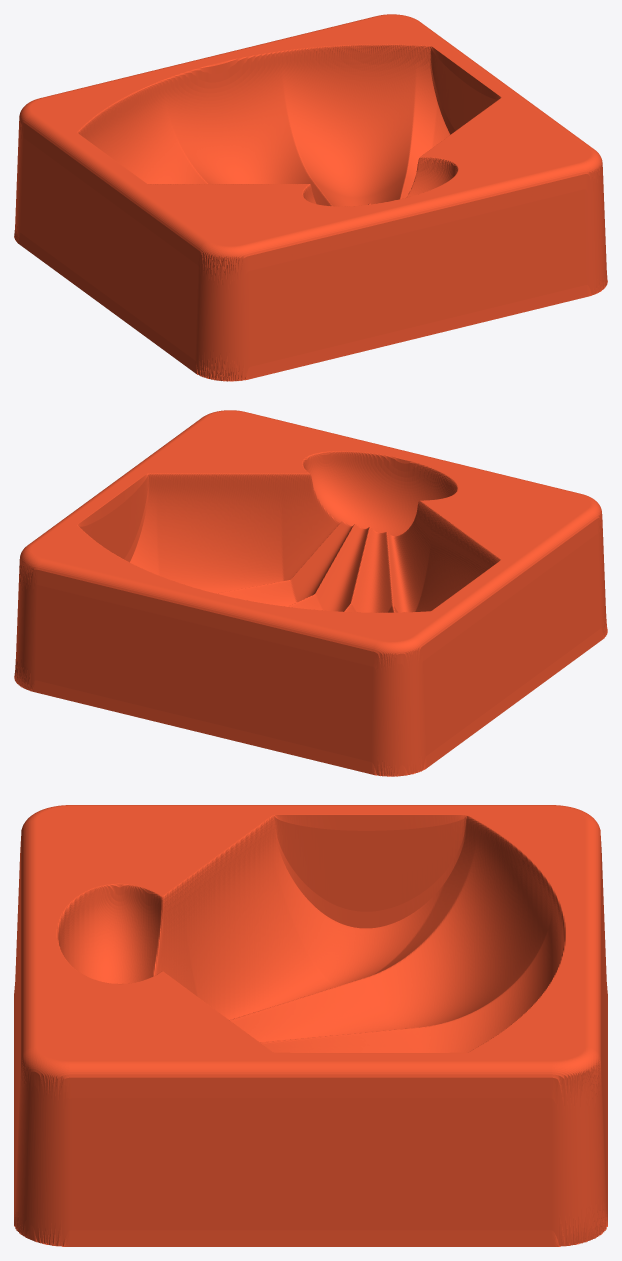
File: mold.glb
The picture shows the model from 3 angles, top to bottom: view 1: azimuth 30°, elevation 25°; view 2: azimuth 150°, elevation 25°; view 3: azimuth 270°, elevation 25°; orthographic projection. The views are drawn at different scales.
Parts seen in each view (by area): view 1: geometry_0; view 2: geometry_0; view 3: geometry_0.
Part boxes in pixels (left/top/right/bottom): geometry_0: left=14, top=14, right=607, bottom=381; geometry_0: left=14, top=410, right=607, bottom=776; geometry_0: left=14, top=805, right=607, bottom=1246.
Size of the model in its own units: 0.1038 by 0.0312 by 0.0952.
